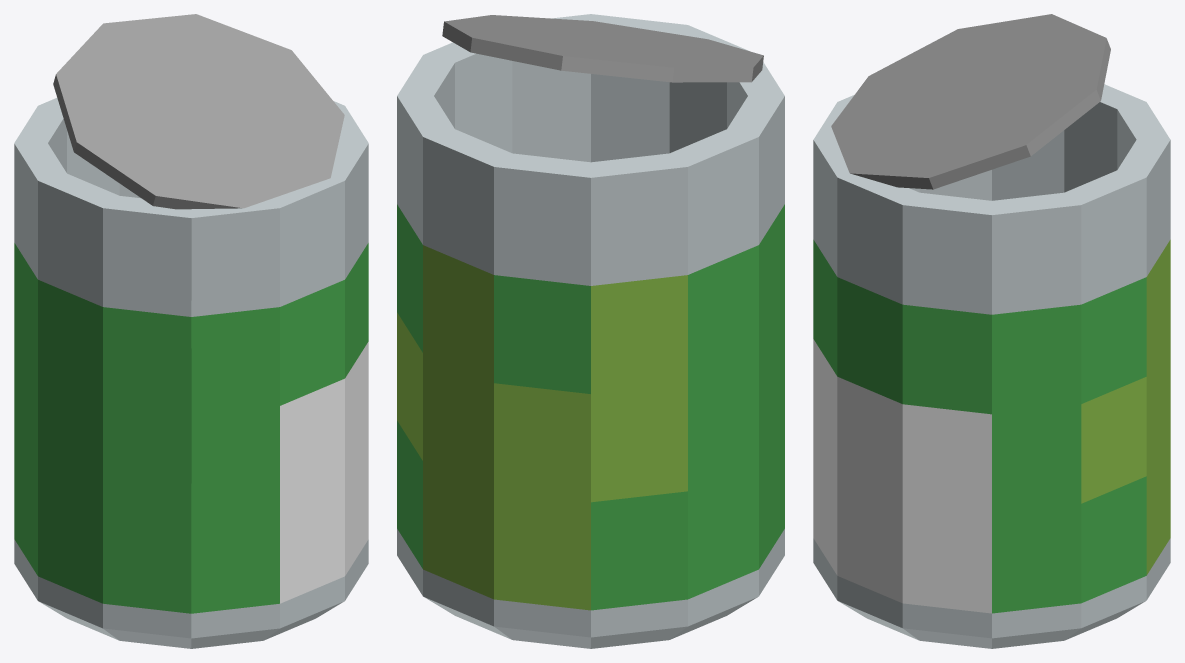
Rendered from trashgroup203695626.fbx.
The picture shows the model from 3 angles, left to right: view 1: azimuth 30°, elevation 25°; view 2: azimuth 150°, elevation 25°; view 3: azimuth 270°, elevation 25°; orthographic projection. The views are drawn at different scales.
Visible parts, largest first — view 1: group203695626; view 2: group203695626; view 3: group203695626.
Boxes of the visible parts, x1,y1,x2,y2 form: group203695626: (14,14,368,648); group203695626: (397,14,784,648); group203695626: (813,14,1170,648).
Bounding box in the file's own units: 15.89 × 26.24 × 15.89.
